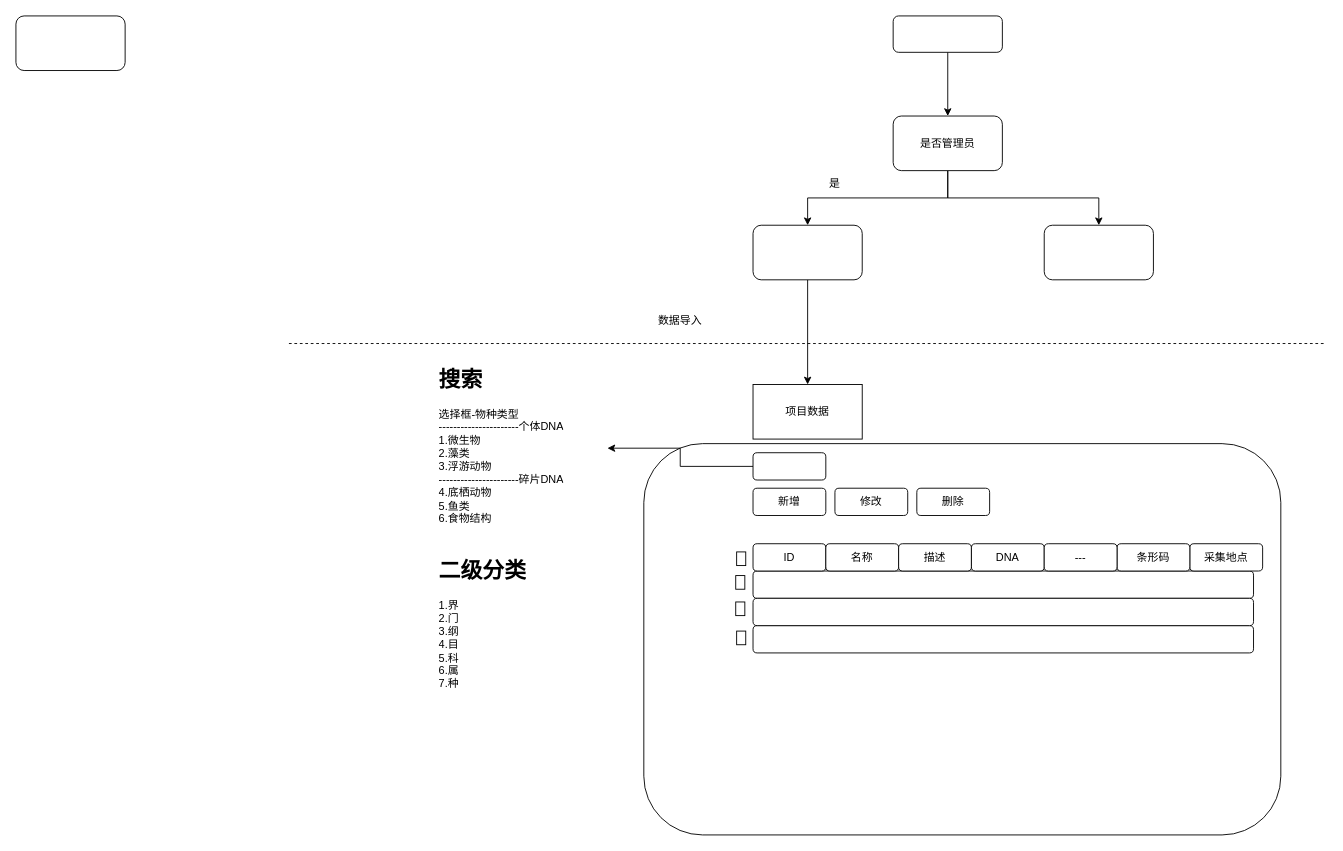
This 1343x851 diagram has some shape labels left out. The shapes that lost their labels are listed below. From the top down, each one's centre as x and y in pixels, then its label:
[70,43]: 浮游生物
[947,33]: 登录
[807,252]: 所有界面
[1098,252]: 部分页面
[789,466]: 搜索
